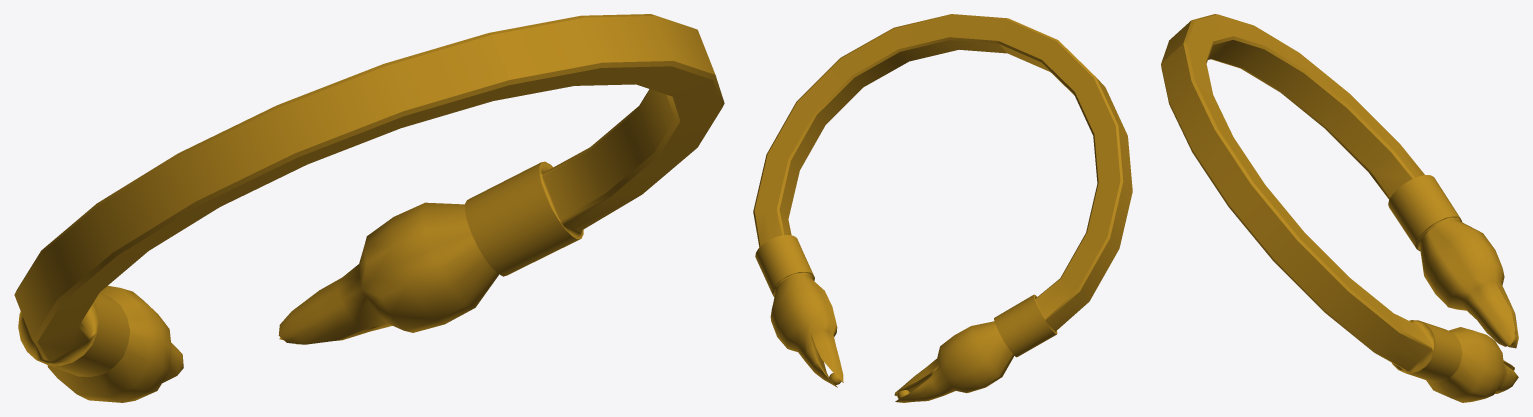
Rendered from BrazaleteAguila.fbx.
3 views of the same model, side by side, from view 1: azimuth 30°, elevation 25°; view 2: azimuth 150°, elevation 25°; view 3: azimuth 270°, elevation 25° (orthographic). The views are drawn at different scales.
Visible parts, largest first — view 1: Golden_Eagle_Bracelet_FBX; view 2: Golden_Eagle_Bracelet_FBX; view 3: Golden_Eagle_Bracelet_FBX.
Boxes of the visible parts, bbox=[...] form: Golden_Eagle_Bracelet_FBX: bbox=[14, 14, 724, 402]; Golden_Eagle_Bracelet_FBX: bbox=[753, 14, 1132, 402]; Golden_Eagle_Bracelet_FBX: bbox=[1161, 14, 1518, 402].
Size of the model in its own units: 59.32 by 45.37 by 45.5.
1 material, 1 textured.
